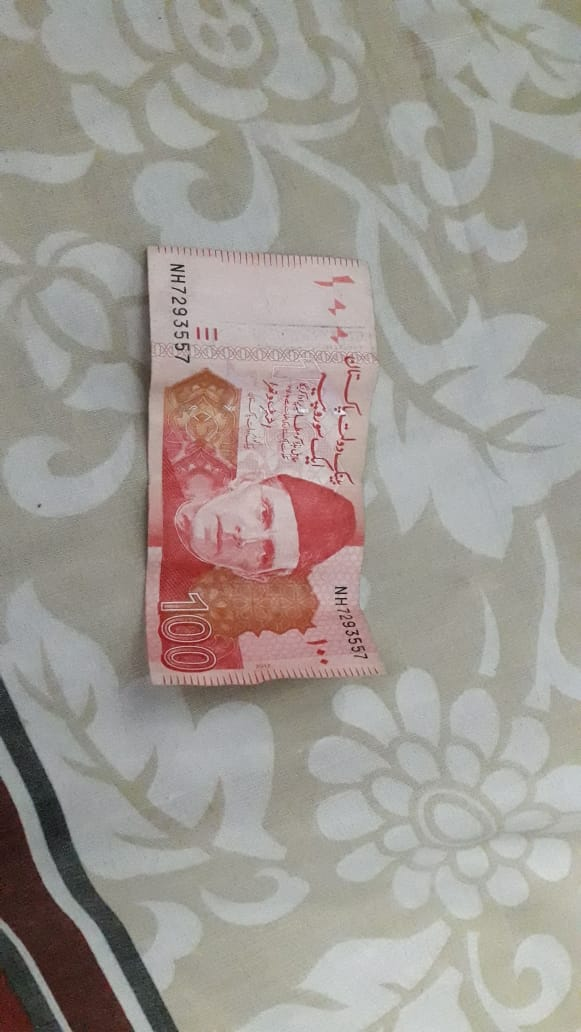100 rupee: (121, 209, 418, 749)
